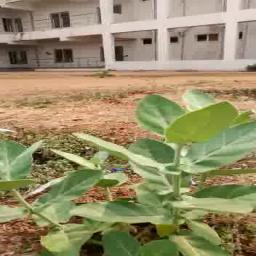Calotropis: (0, 130, 255, 250), (135, 94, 255, 143)
